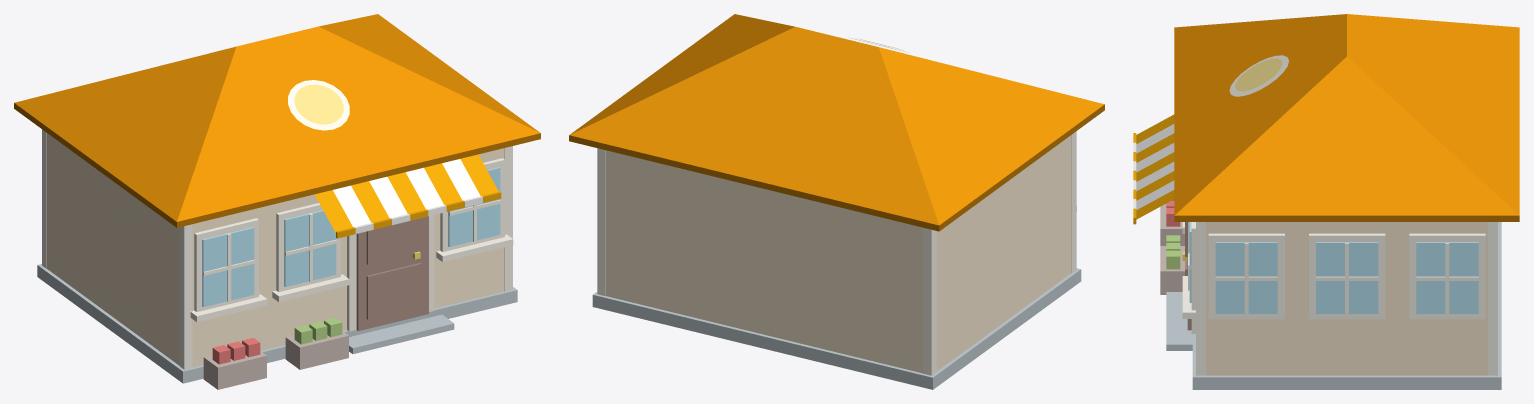
The model's file is market_shop.glb.
The picture shows the model from 3 angles, left to right: view 1: azimuth 30°, elevation 25°; view 2: azimuth 150°, elevation 25°; view 3: azimuth 270°, elevation 25°; orthographic projection. The views are drawn at different scales.
Visible parts, largest first — view 1: Market_Roof, Market_Walls, Market_Plinth, Market_WinF0_Glass, Market_WinF1_Glass, Market_Door, Market_DoorPanelA, Market_RoofEdgeFront, Market_Corner0, Market_DoorPanelB, Market_Step, Market_WinF3_Glass (+23 smaller); view 2: Market_Walls, Market_Roof, Market_Plinth, Market_RoofEdgeBack, Market_Corner2, Market_Corner3, Market_RoofEdgeLeft, Market_Corner0; view 3: Market_Roof, Market_Walls, Market_Plinth, Market_WinS0_Glass, Market_WinS2_Glass, Market_WinS1_Glass, Market_WinS0_Frame, Market_WinS2_Frame, Market_RoofEdgeRight, Market_WinS1_Frame, Market_Corner1, Market_Corner3 (+18 smaller).
Part boxes in pixels (x1,y1,x2,y2): Market_Roof: (14, 14, 540, 221); Market_Walls: (47, 133, 504, 367); Market_Plinth: (37, 264, 517, 383); Market_WinF0_Glass: (202, 227, 254, 306); Market_WinF1_Glass: (284, 210, 336, 286); Market_Door: (356, 216, 428, 330); Market_DoorPanelA: (366, 263, 421, 319); Market_RoofEdgeFront: (174, 133, 540, 227); Market_Corner0: (179, 224, 192, 369); Market_DoorPanelB: (366, 218, 421, 264); Market_Step: (349, 314, 454, 353); Market_WinF3_Glass: (448, 167, 500, 246); Market_Walls: (606, 135, 1071, 373); Market_Roof: (569, 14, 1104, 225); Market_Plinth: (592, 268, 1081, 389); Market_RoofEdgeBack: (569, 135, 942, 231); Market_Corner2: (923, 228, 936, 375); Market_Corner3: (597, 148, 605, 296); Market_RoofEdgeLeft: (934, 106, 1101, 230); Market_Corner0: (1071, 131, 1076, 273); Market_Roof: (1174, 14, 1519, 215); Market_Walls: (1206, 222, 1487, 375); Market_Plinth: (1192, 222, 1501, 389); Market_WinS0_Glass: (1416, 242, 1478, 313); Market_WinS2_Glass: (1215, 242, 1277, 313); Market_WinS1_Glass: (1316, 242, 1378, 313); Market_WinS0_Frame: (1409, 233, 1485, 319); Market_WinS2_Frame: (1208, 233, 1284, 319); Market_RoofEdgeRight: (1174, 215, 1519, 221); Market_WinS1_Frame: (1309, 233, 1385, 319); Market_Corner1: (1196, 222, 1205, 375); Market_Corner3: (1488, 222, 1497, 375).
Size of the model in its own units: 4.44 by 2.95 by 3.85.
